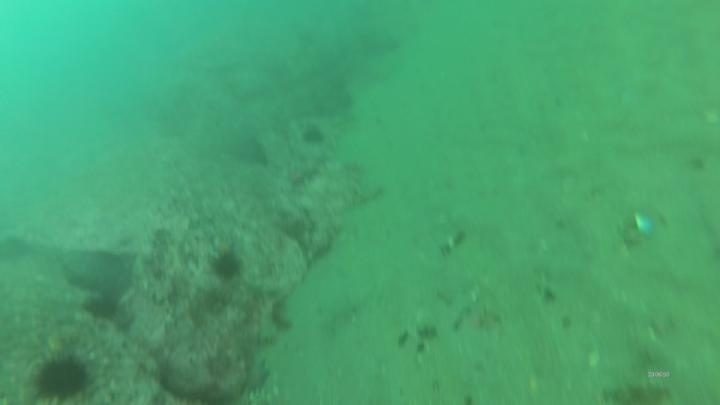echinus: (30, 351, 94, 404), (81, 292, 122, 323), (209, 249, 245, 283)
starfish: (239, 355, 274, 398)
